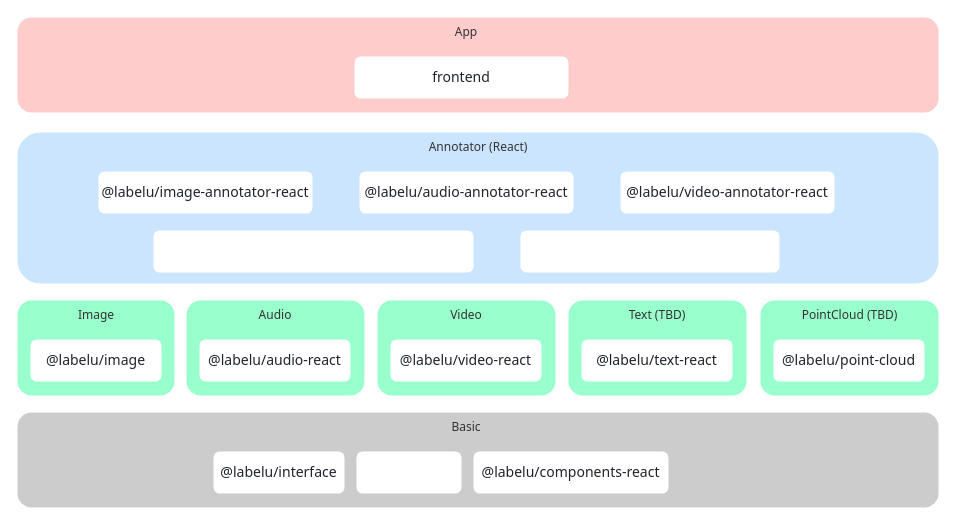
The diagram is 955 pixels wide and 524 high, and some of its shapes have lost their labels. Here are the shapes that lost their labels. From the top down, the centre of each, then its label:
At (313,251): "@labelu/point-cloud-annotator-react (TBD)".
At (649,251): "@labelu/text-annotator-react (TBD)".
At (408,472): "@labelu/utils".
